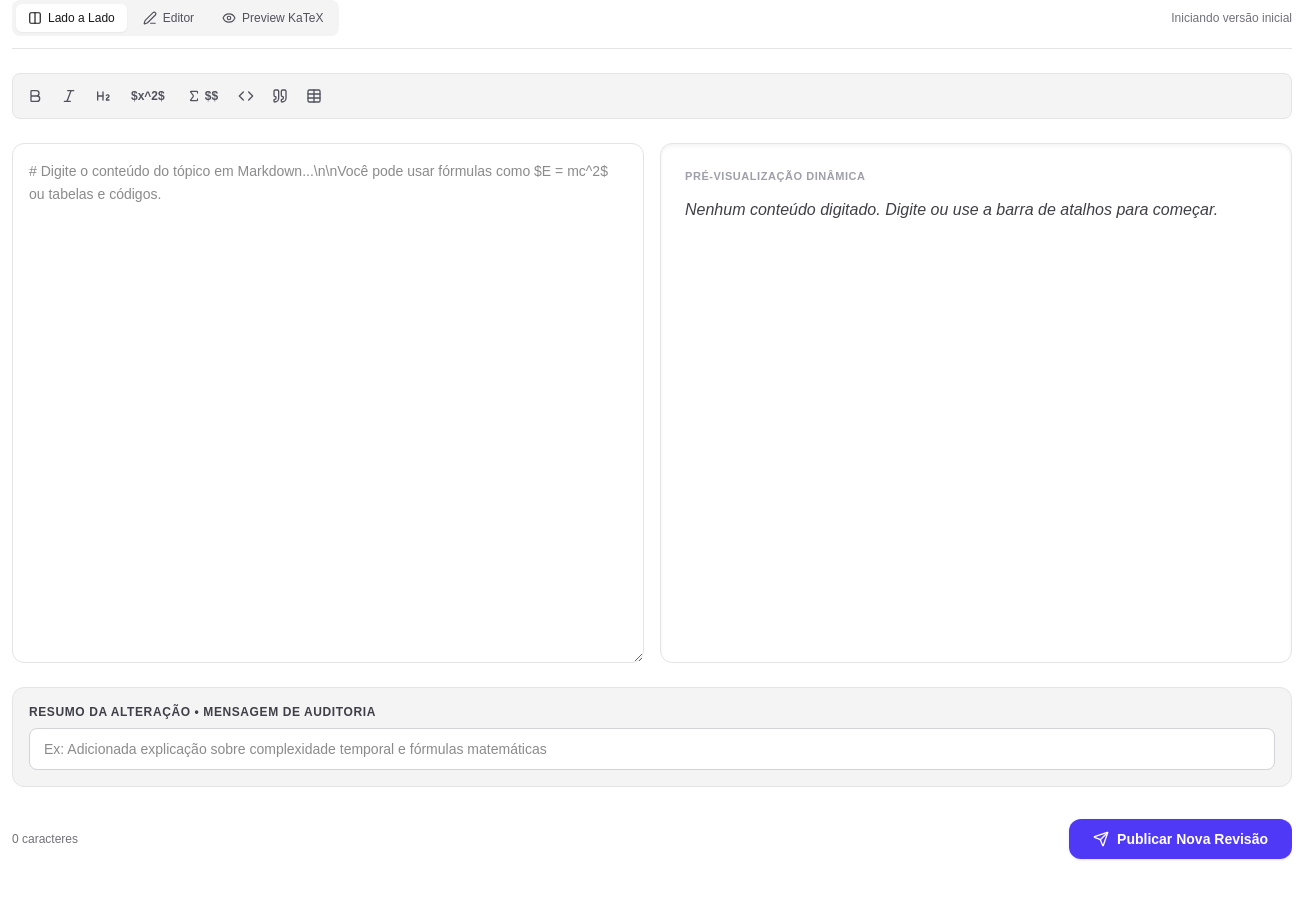
MaterialEditor Component › validates empty content on submission
The width and height of the screenshot is (1304, 898).
Click the button "Publicar Nova Revisão" at [1180, 839], box [1069, 819, 1292, 859]
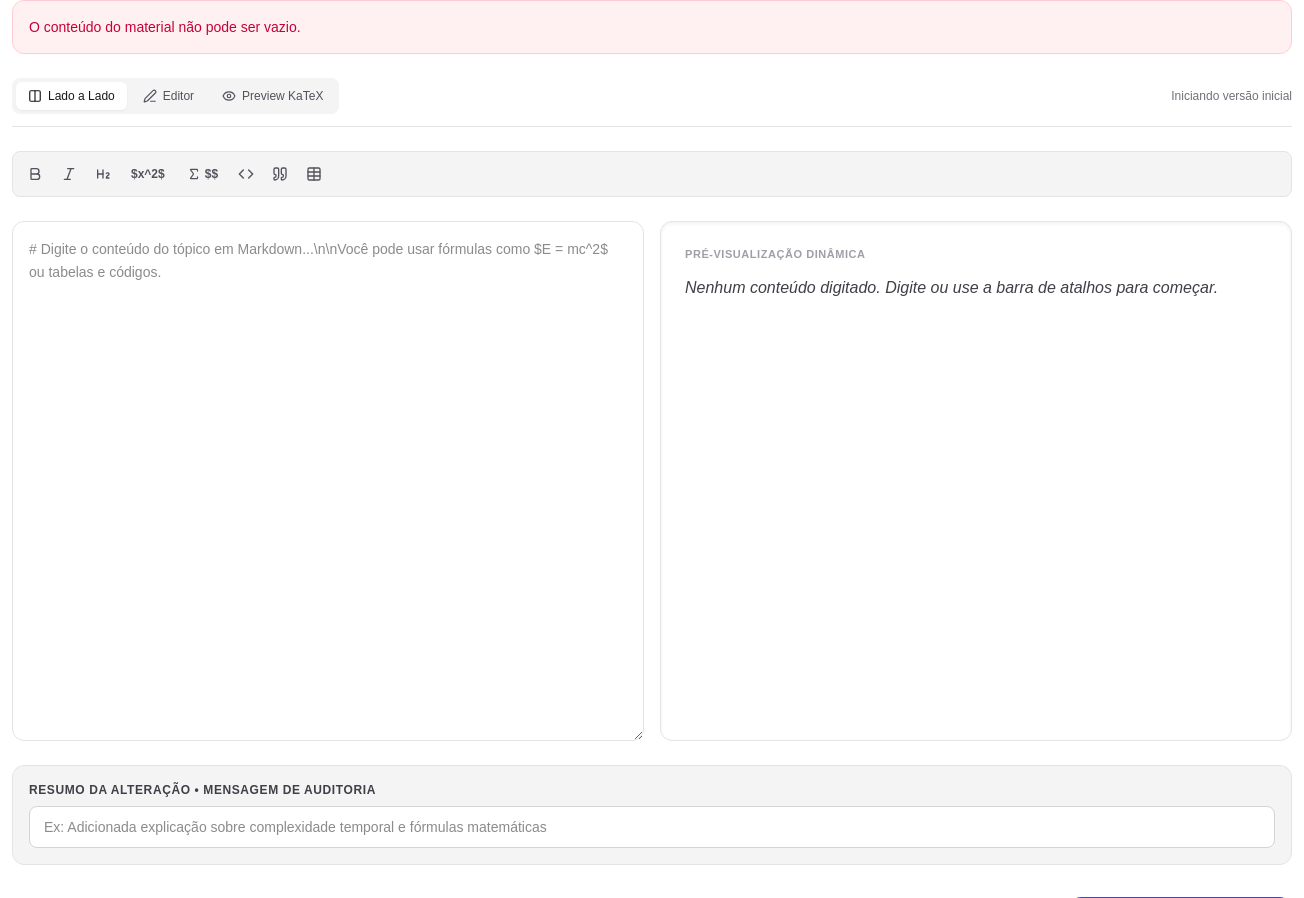
Check: the text "O conteúdo do material não pode ser vazio." is shown, box [12, 0, 1292, 54]
